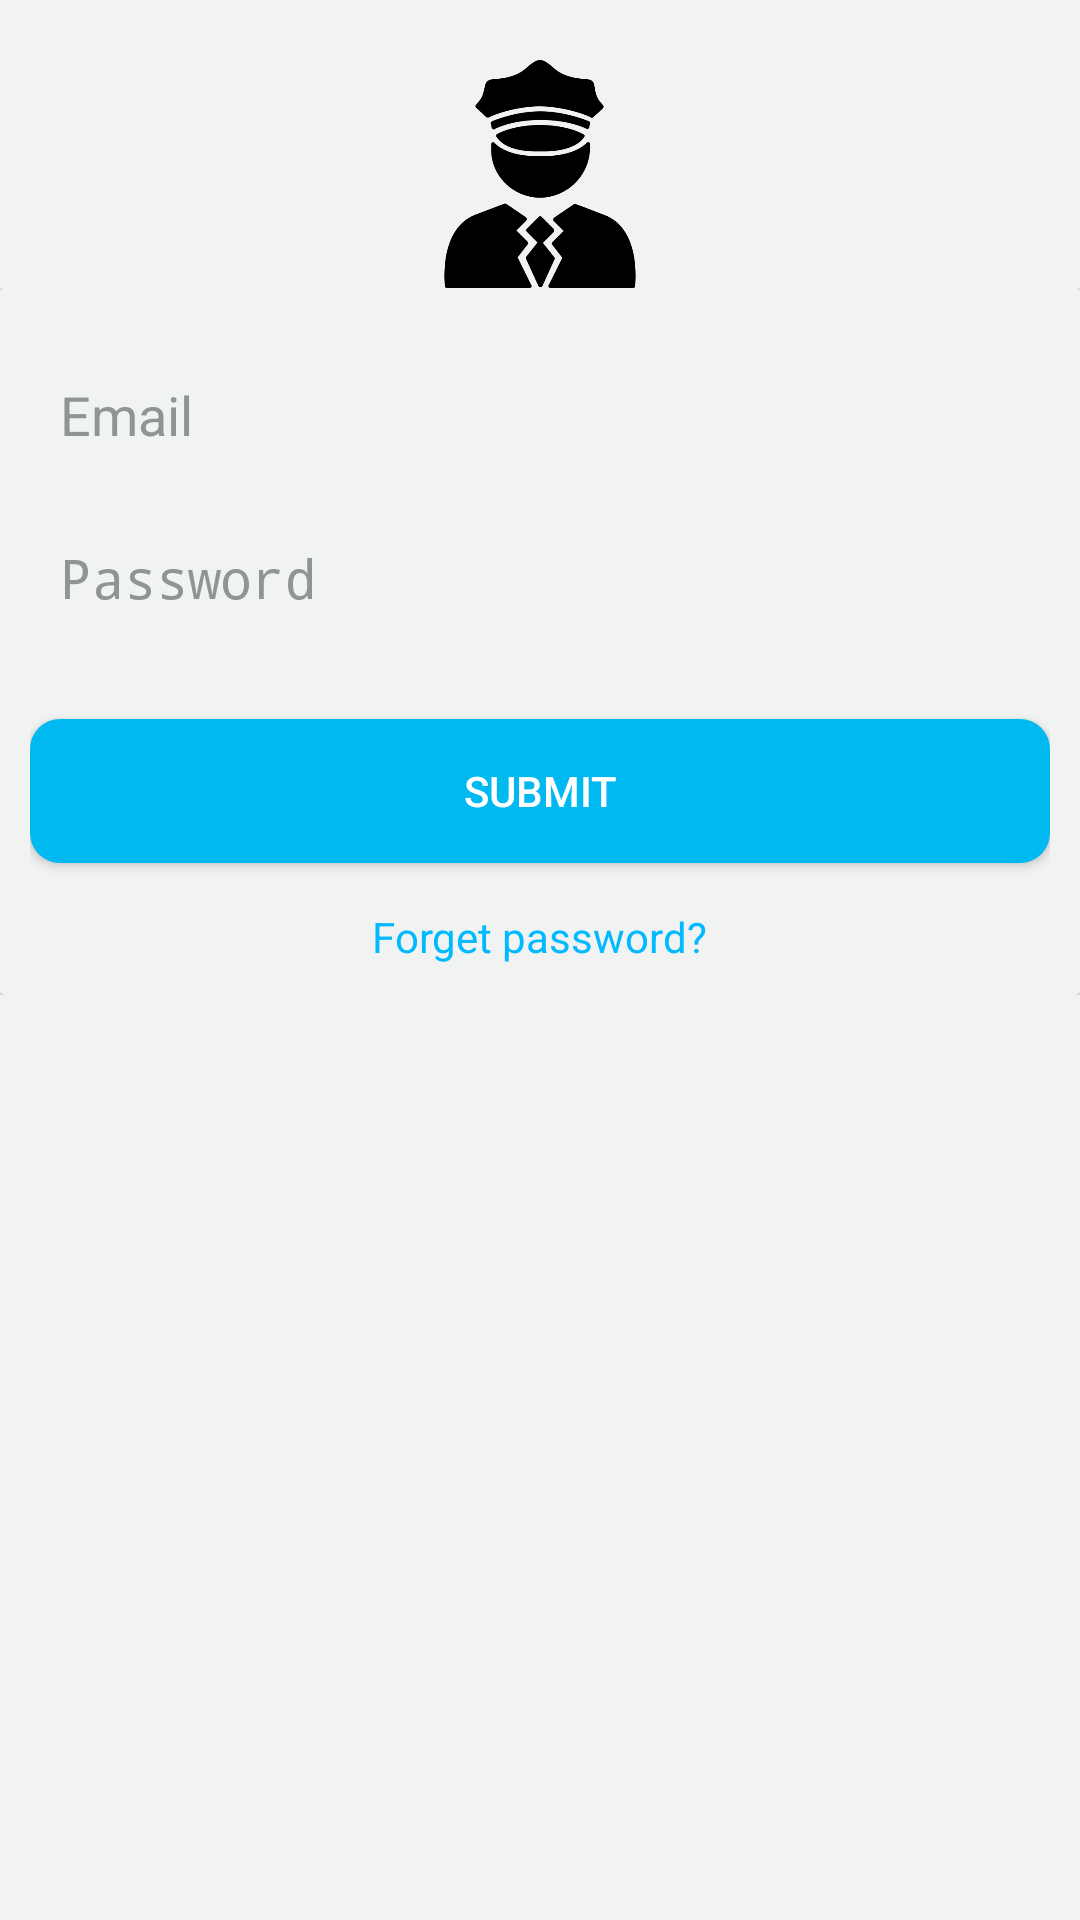

Icon click points for this 1080 × 1920 phone screenshot, format (x=x, y=y):
policeman: (x=540, y=174)
